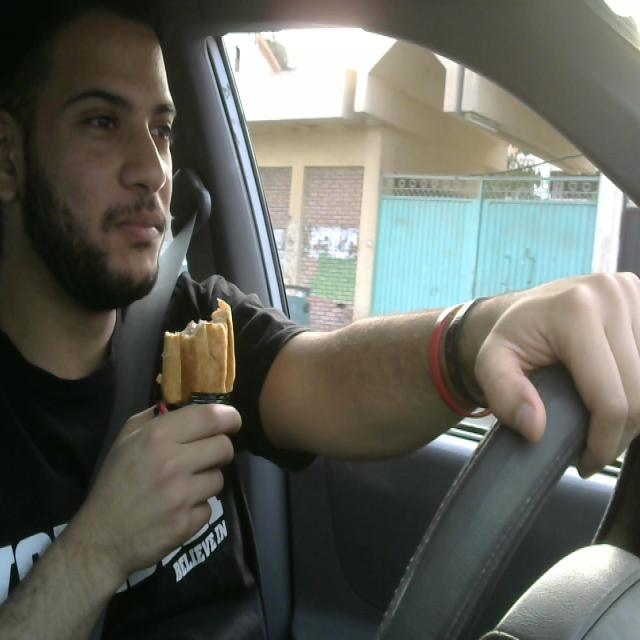eating: (148, 291, 242, 472)
